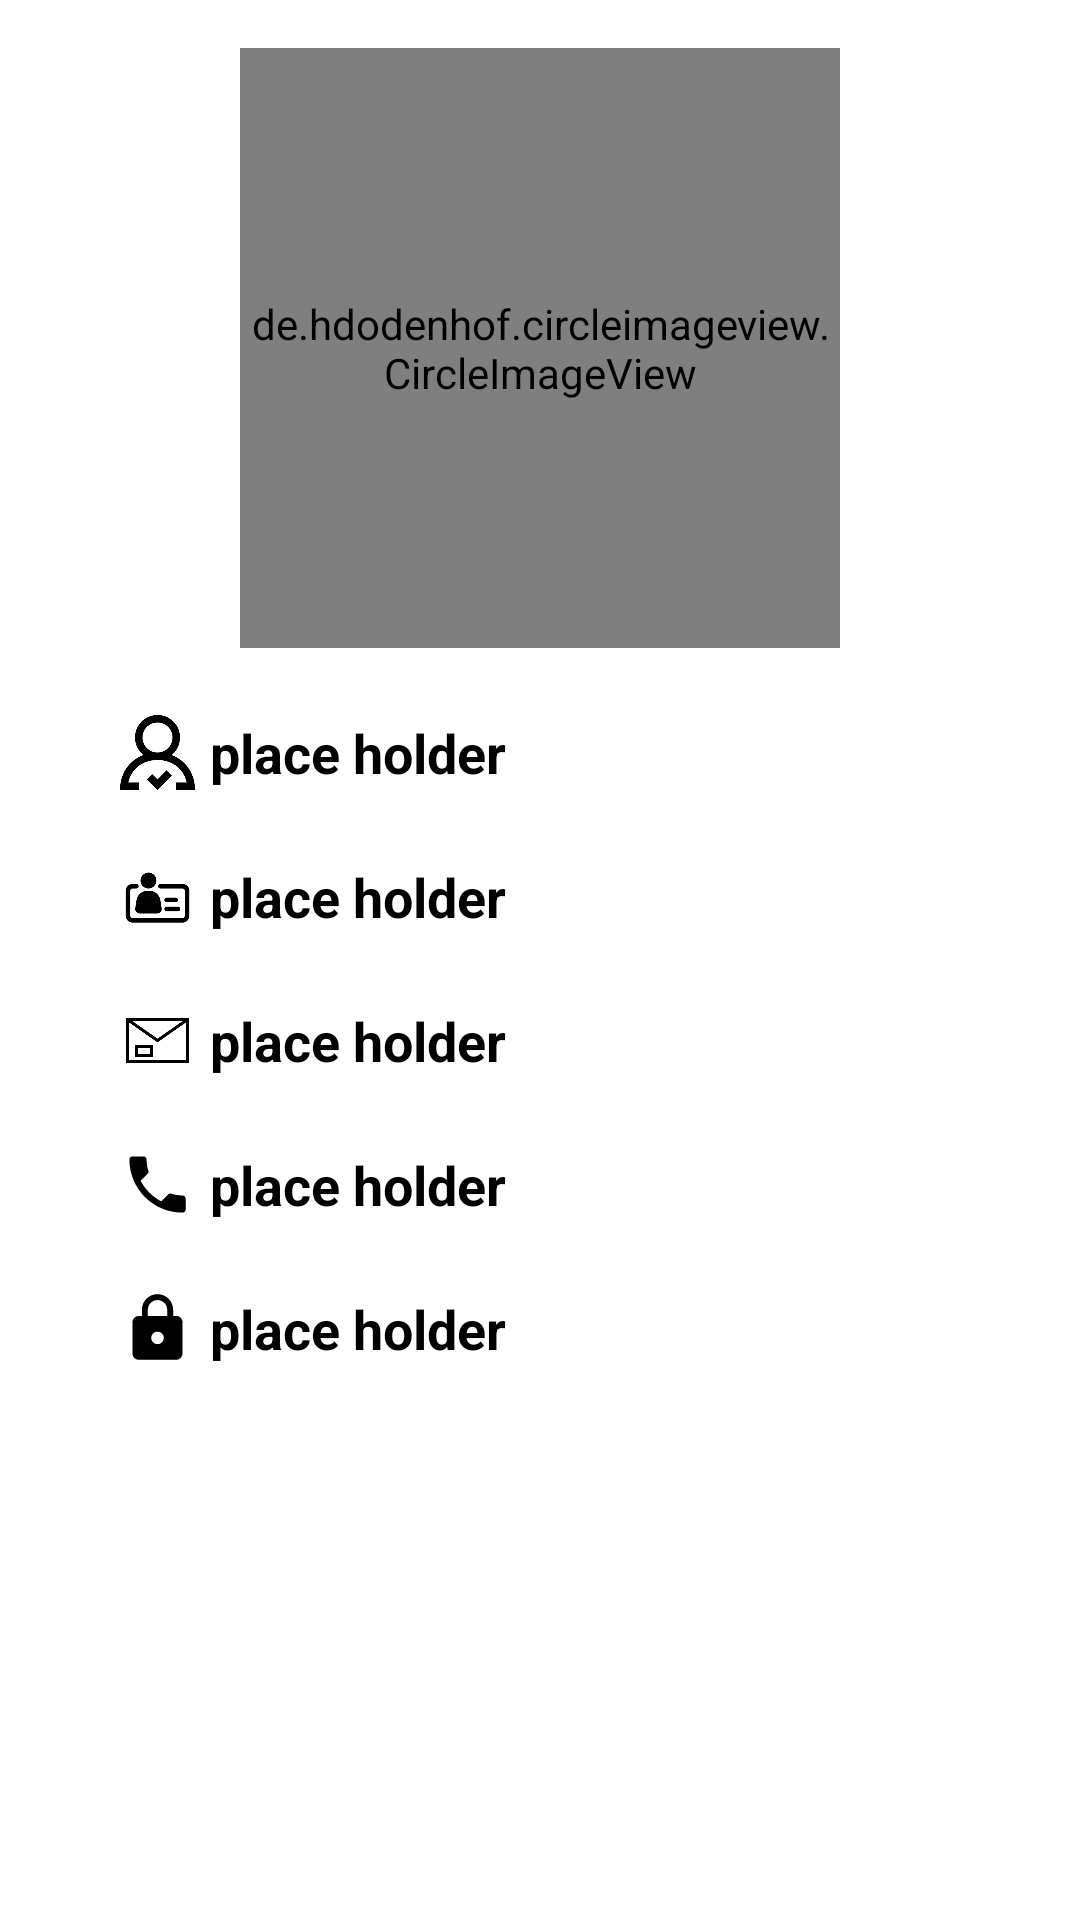

Where to tap for icons on this 1080px x 1920px app screen, as (x=x, y=y):
idcard: (x=157, y=897)
lock: (x=157, y=1327)
